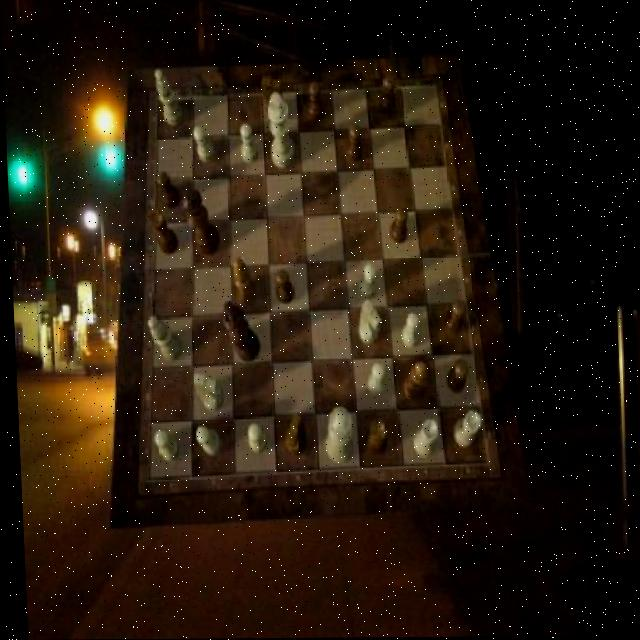bishop: (230, 259, 255, 308), (400, 362, 425, 404)
black-bishop: (219, 303, 257, 363)
black-king: (260, 77, 284, 125), (280, 414, 304, 456)
black-knight: (154, 171, 178, 209), (443, 359, 465, 394), (441, 301, 463, 335), (388, 207, 407, 245), (305, 83, 323, 123), (377, 77, 395, 116), (273, 269, 292, 304), (344, 126, 361, 164)
black-pawn: (179, 190, 219, 257)
black-queen: (146, 210, 175, 255), (359, 419, 383, 455)
black-rook: (154, 68, 183, 126), (146, 316, 180, 361)
white-bishop: (267, 92, 294, 170)
white-king: (190, 374, 220, 413), (355, 299, 380, 345)
white-knight: (191, 125, 214, 163), (150, 430, 176, 462), (238, 125, 257, 165), (192, 427, 217, 456), (363, 363, 383, 397), (398, 313, 417, 347), (357, 266, 375, 300), (244, 423, 262, 454)
white-pawn: (319, 408, 349, 464)
white-queen: (448, 410, 479, 447), (408, 419, 434, 457)
